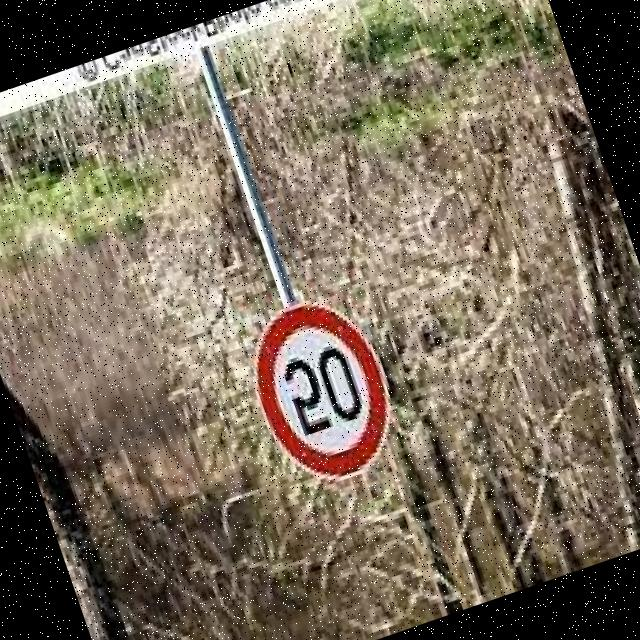speed_limit_50: (226, 282, 413, 504)
